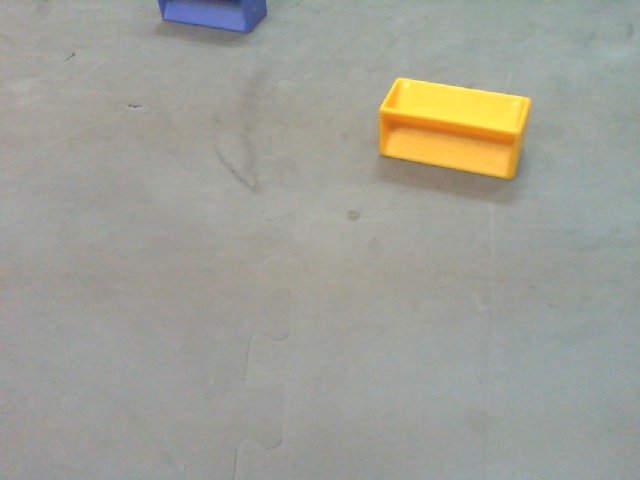BlueSample: (153, 1, 270, 34)
YellowSample: (375, 75, 534, 185)
